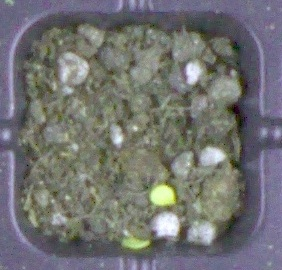chilli seed: (149, 183, 176, 207), (120, 235, 152, 250)
